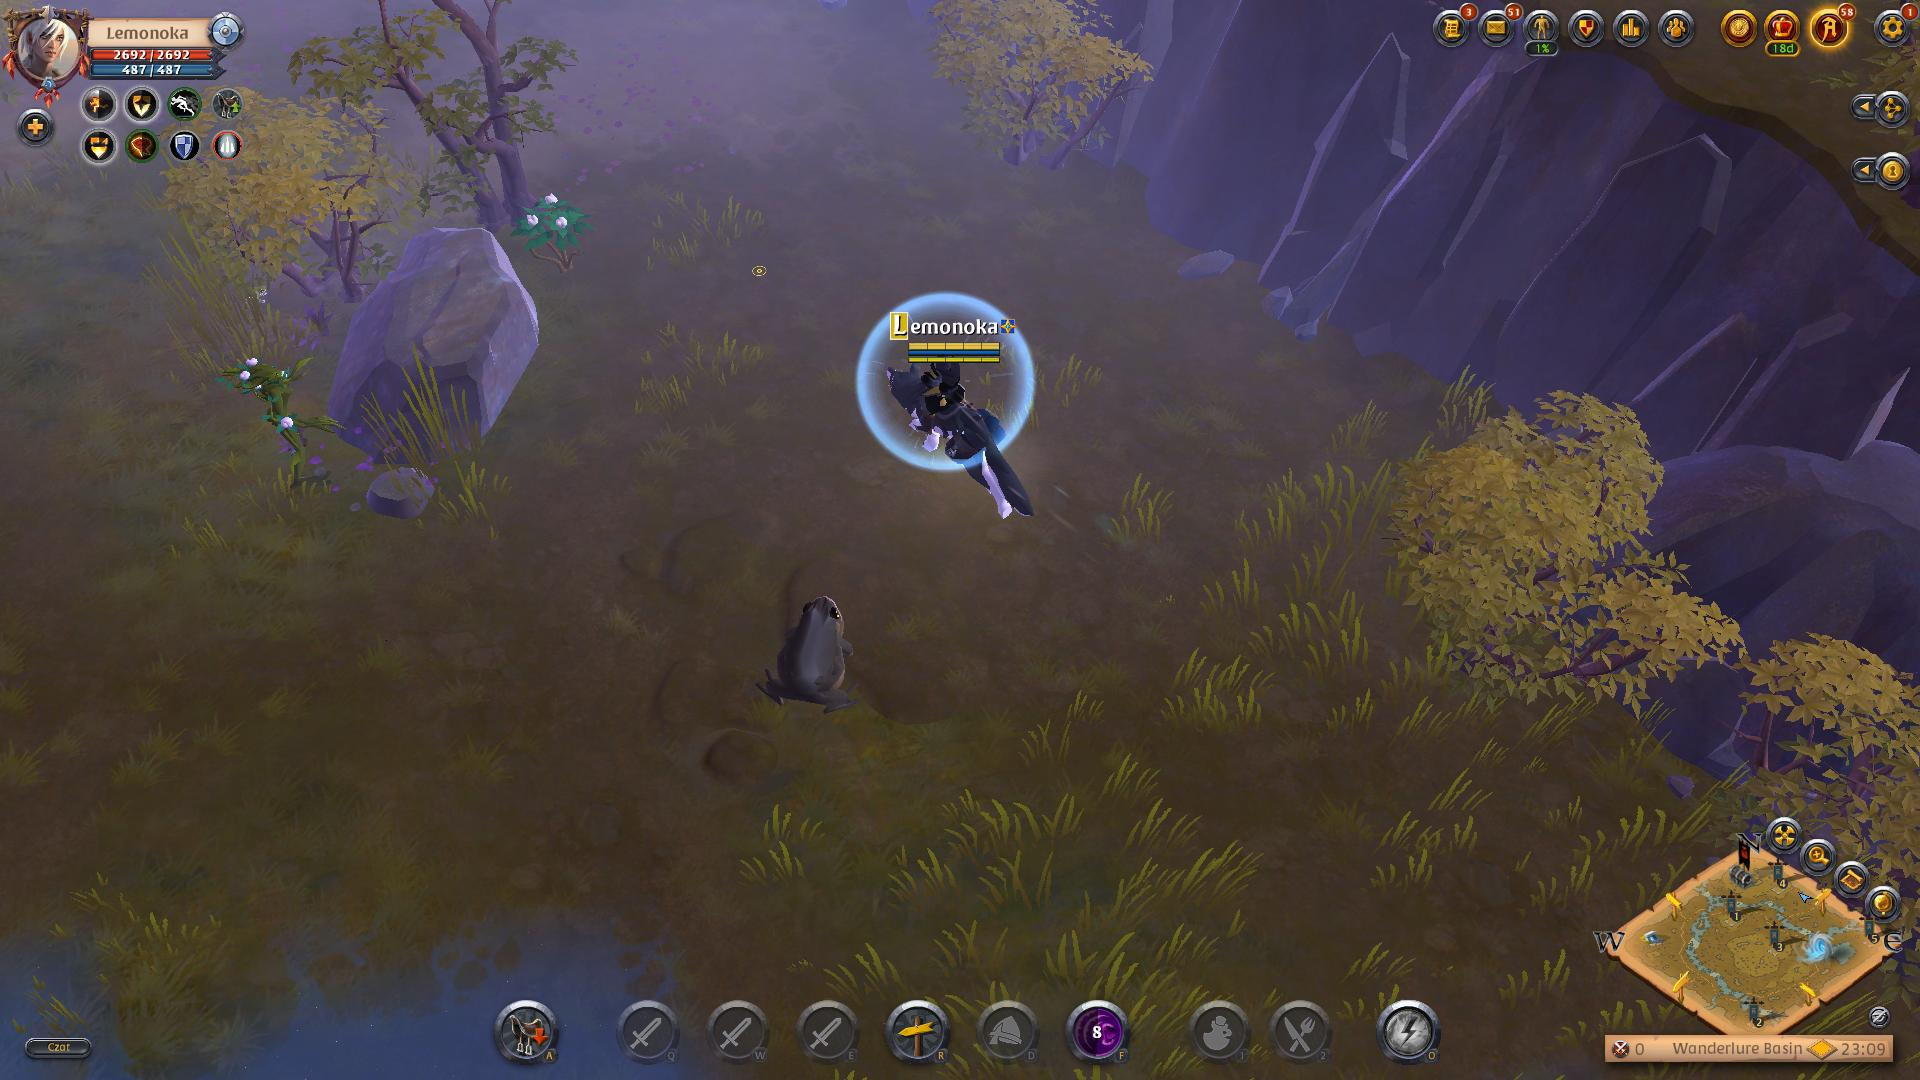fiber tier 3: (512, 189, 595, 276)
